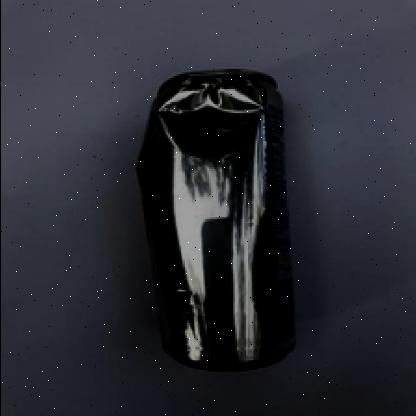Can: (128, 66, 297, 377)
